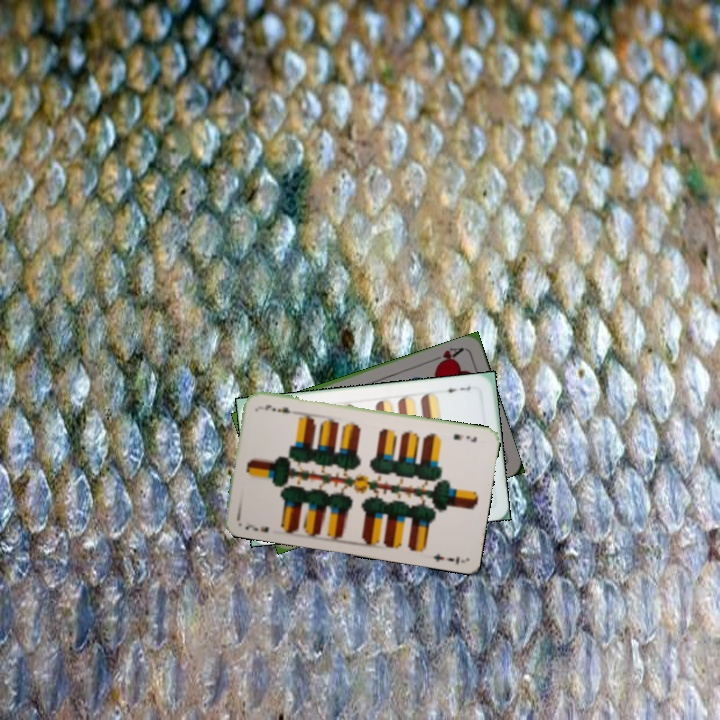E7: (439, 381, 473, 395), (449, 430, 479, 445), (241, 520, 271, 535)
HA: (433, 343, 466, 369)
